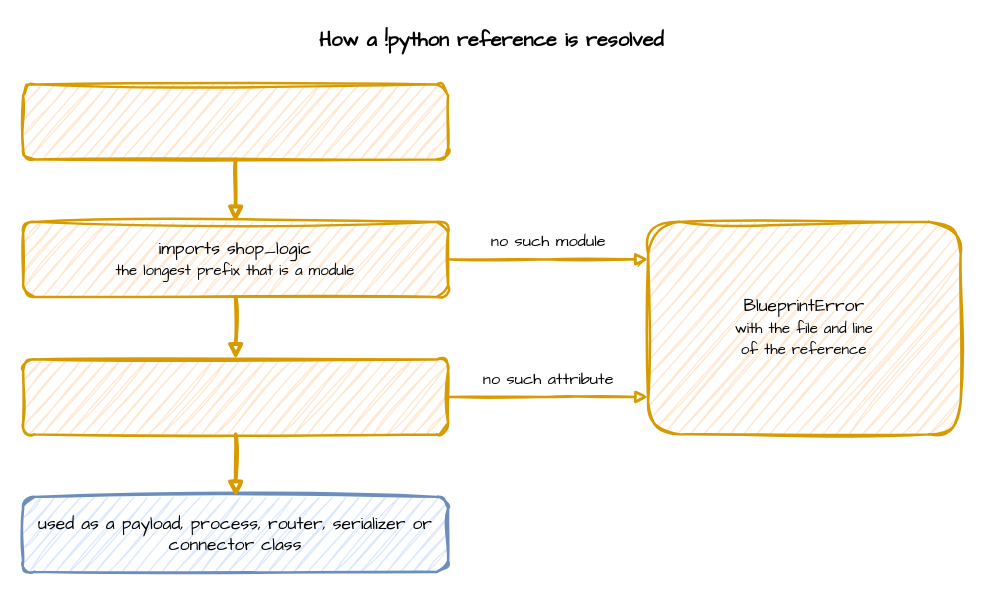
This 983x594 diagram has some shape labels left out. The shapes that lost their labels are listed below. From the top down, each one's box as (x1, y1, x2, y2) in pixels, then its label:
(21, 82, 449, 160): a blueprint value !python shop_logic.choose_delivery
(21, 358, 449, 435): returns choose_delivery
